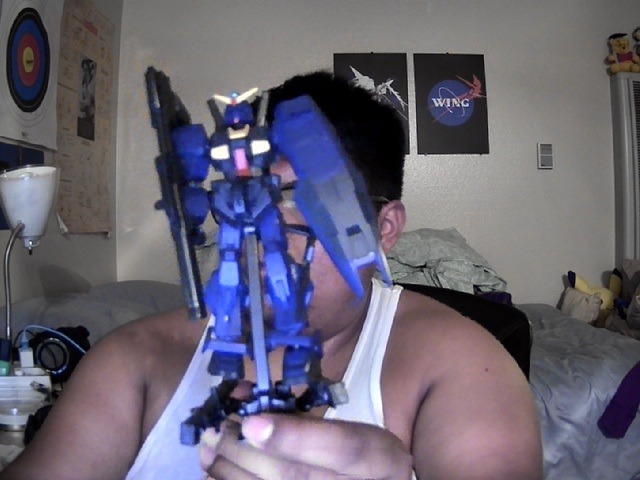Mk-11-Titans: (144, 66, 392, 385)
